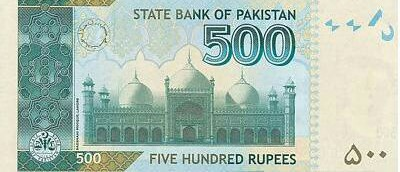500 rupee: (6, 6, 395, 172)
